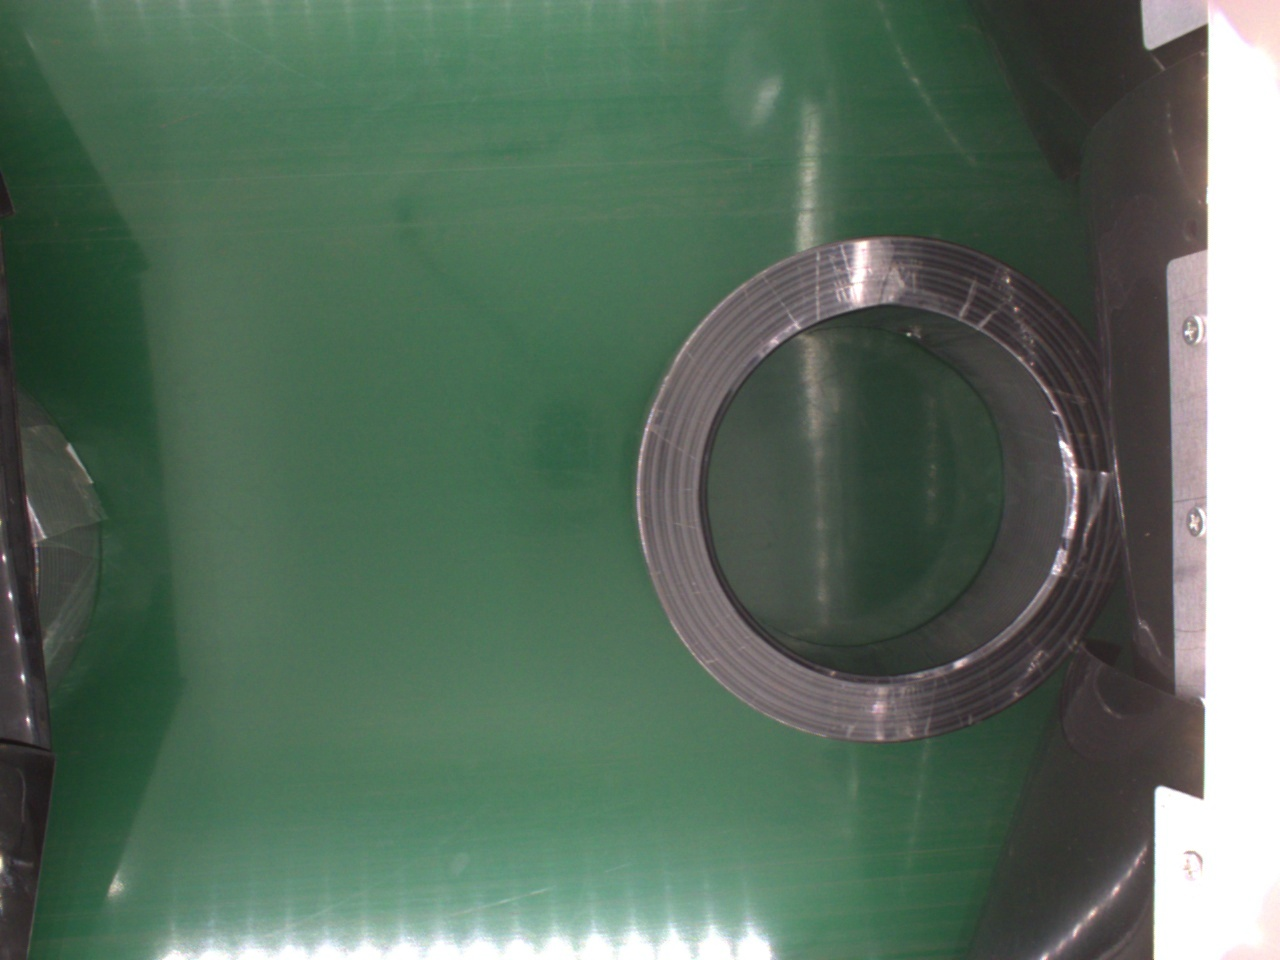black: (639, 235, 1093, 746)
